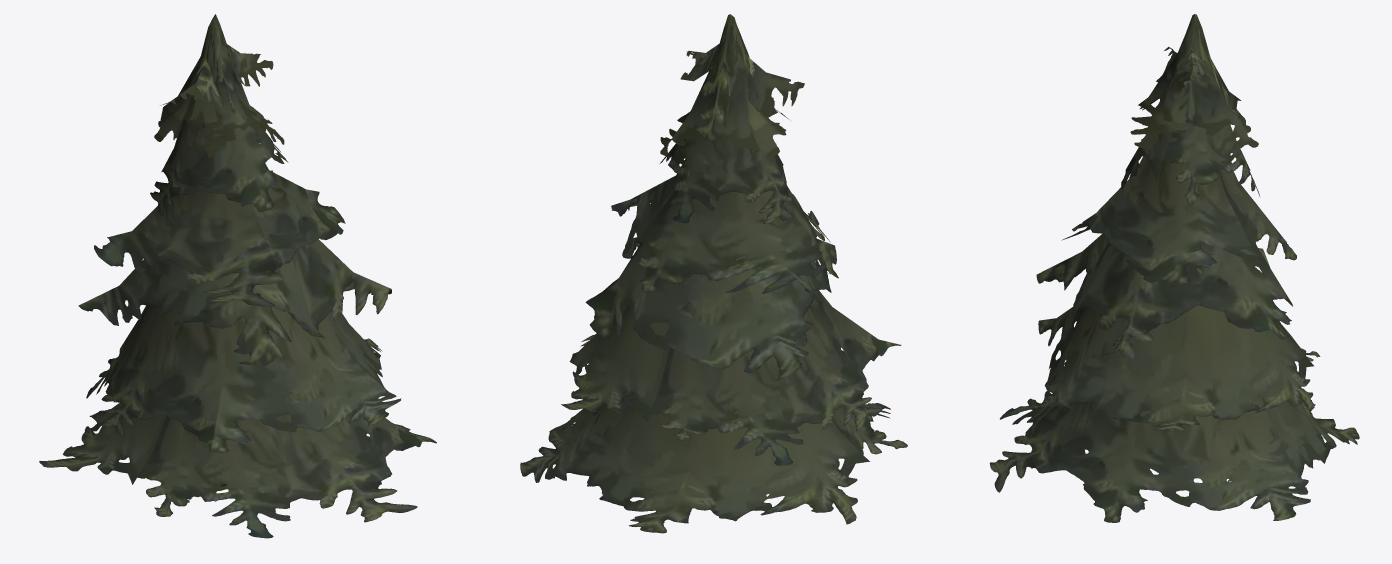
3 renders of one model, left to right at view 1: azimuth 30°, elevation 25°; view 2: azimuth 150°, elevation 25°; view 3: azimuth 270°, elevation 25°, orthographic. The views are drawn at different scales.
Visible parts, largest first — view 1: body0_model0_lod0_mesh0; view 2: body0_model0_lod0_mesh0; view 3: body0_model0_lod0_mesh0.
Boxes of the visible parts, x1,y1,x2,y2 form: body0_model0_lod0_mesh0: (39,14,436,538); body0_model0_lod0_mesh0: (520,14,907,533); body0_model0_lod0_mesh0: (989,14,1359,522).
Bounding box in the file's own units: 356 × 415 × 354.
1 material, 1 textured.
